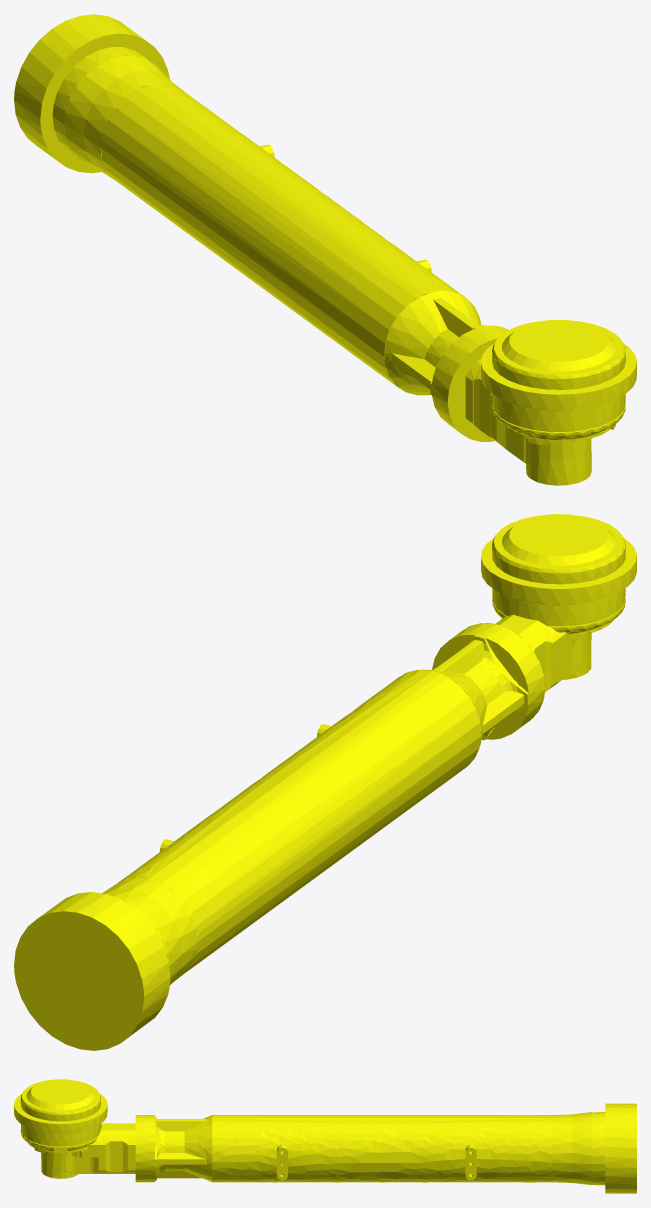
3 renders of one model, top to bottom at view 1: azimuth 30°, elevation 25°; view 2: azimuth 150°, elevation 25°; view 3: azimuth 270°, elevation 25°, orthographic. The views are drawn at different scales.
Visible parts, largest first — view 1: node; view 2: node; view 3: node.
Boxes of the visible parts, x1,y1,x2,y2 form: node: (14,14,636,485); node: (14,514,636,1050); node: (14,1079,636,1193).
Size of the model in its own units: 169 by 194 by 1123.
